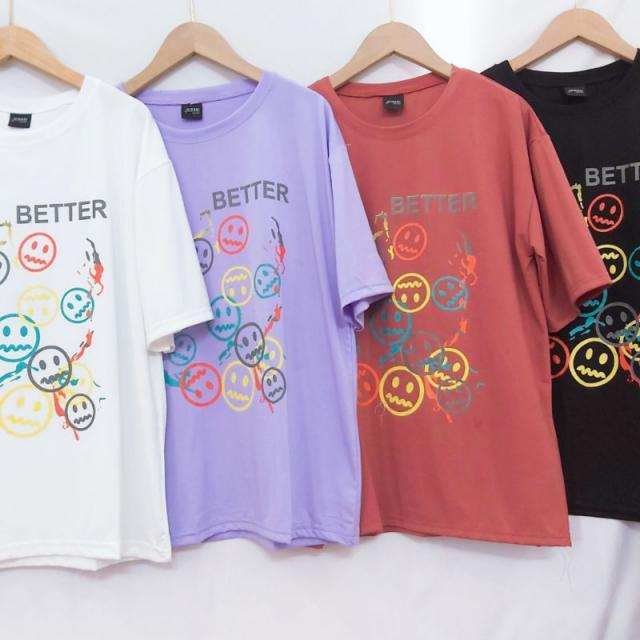Shirt: (308, 71, 610, 555), (111, 78, 391, 552), (2, 81, 214, 584)
